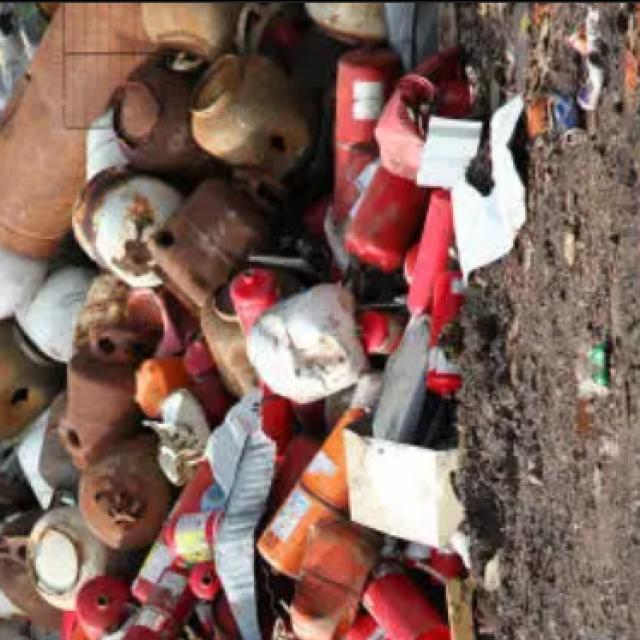cylinder: (188, 52, 318, 179), (146, 178, 271, 310), (63, 316, 149, 471)
